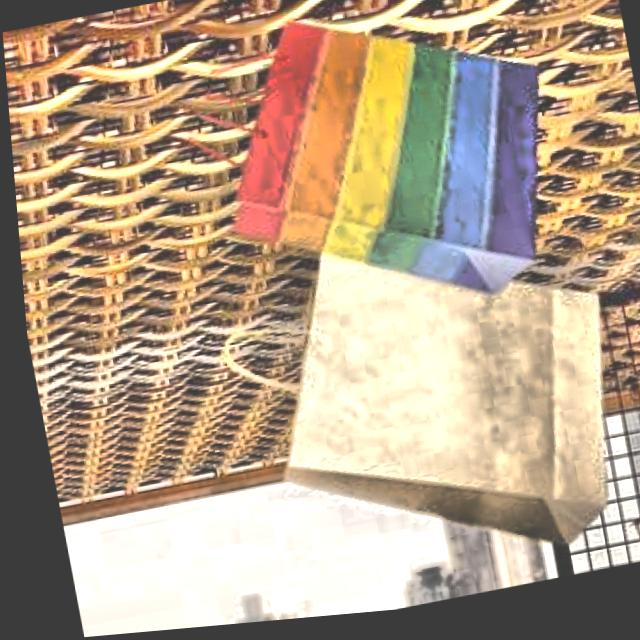Paper-bag: (176, 0, 588, 363)
